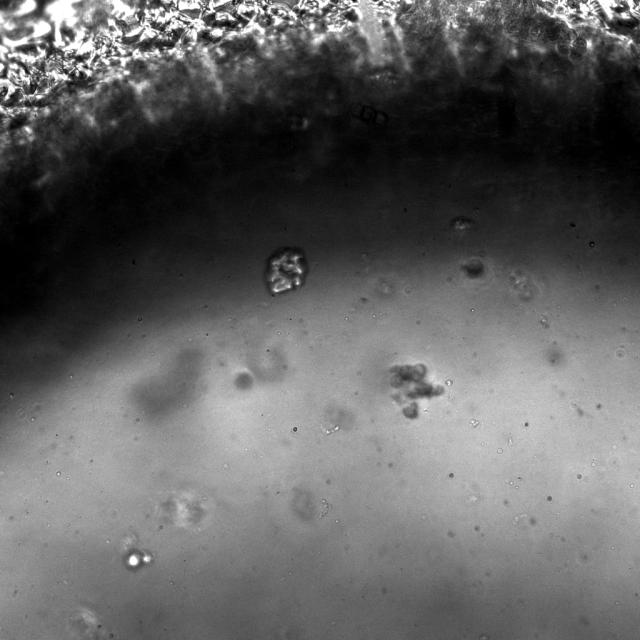organoid: (388, 363, 443, 418), (264, 247, 308, 295), (461, 257, 484, 279)
